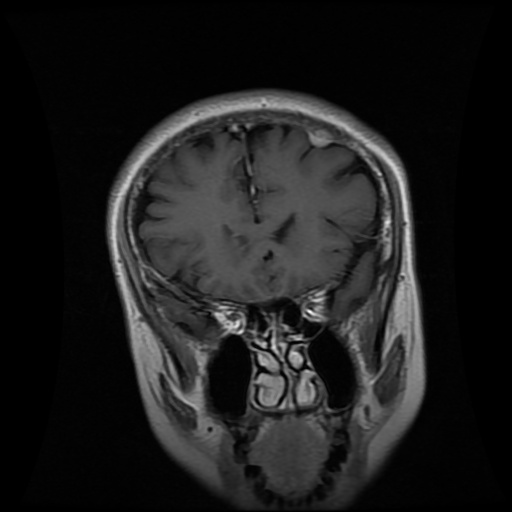meningioma: (309, 128, 333, 148)
